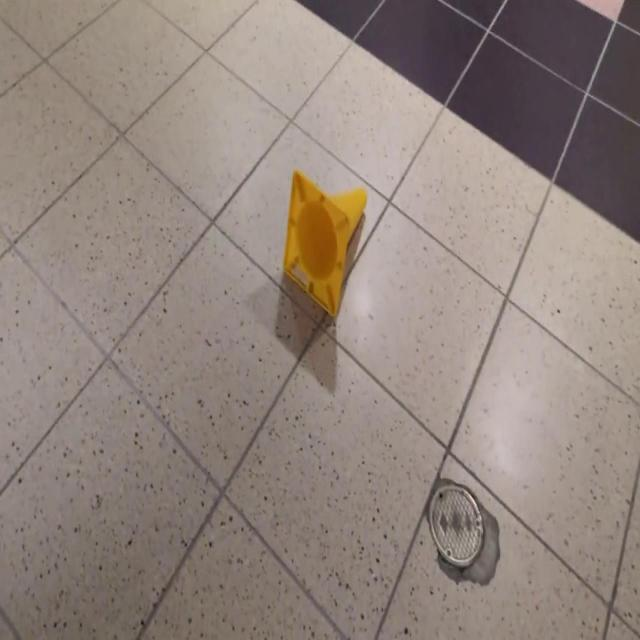frc_cone: (284, 169, 368, 316)
